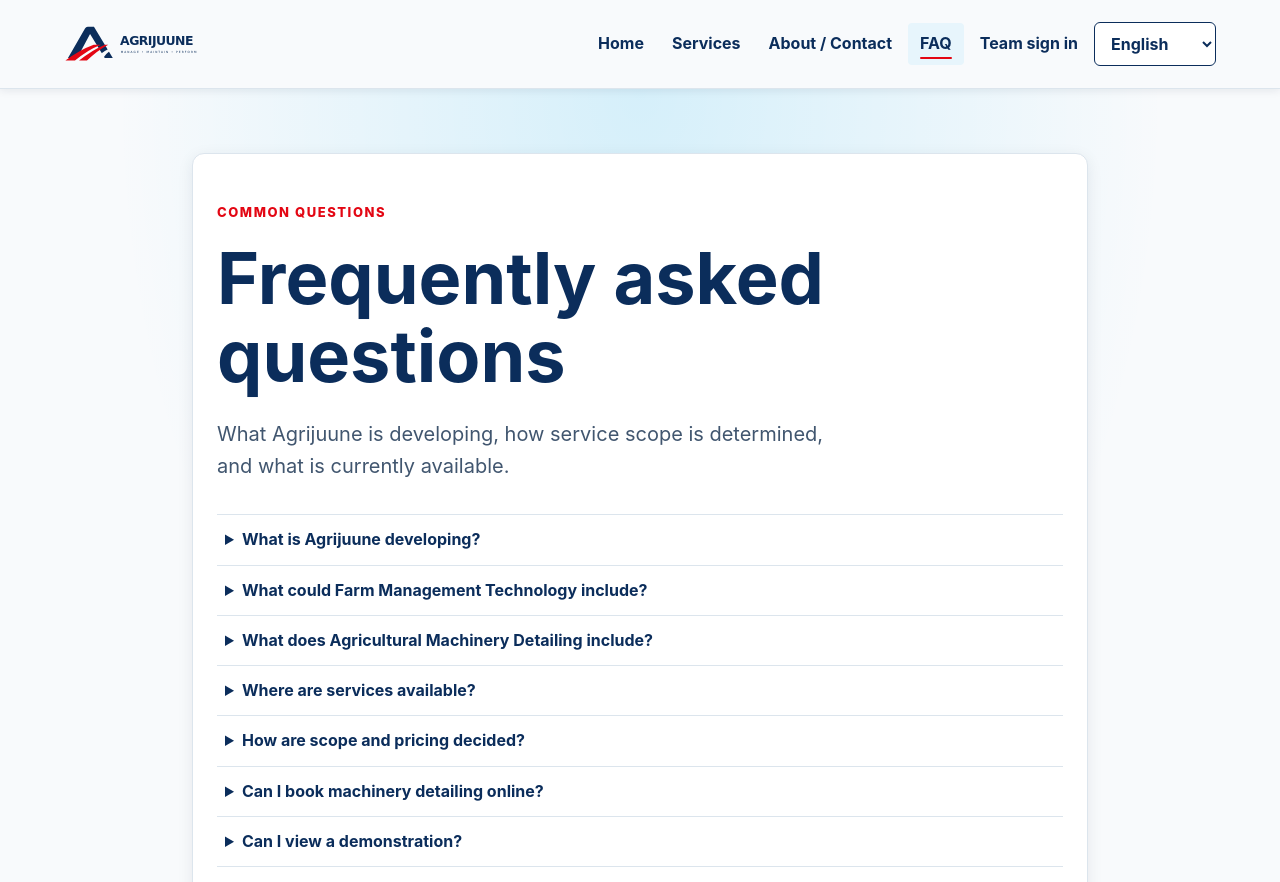
Test case: public application shell › localizes FAQ questions and answers into Afrikaans
Select "Afrikaans" in the dropdown named "Language": (1155, 44) [1094,22,1216,66]
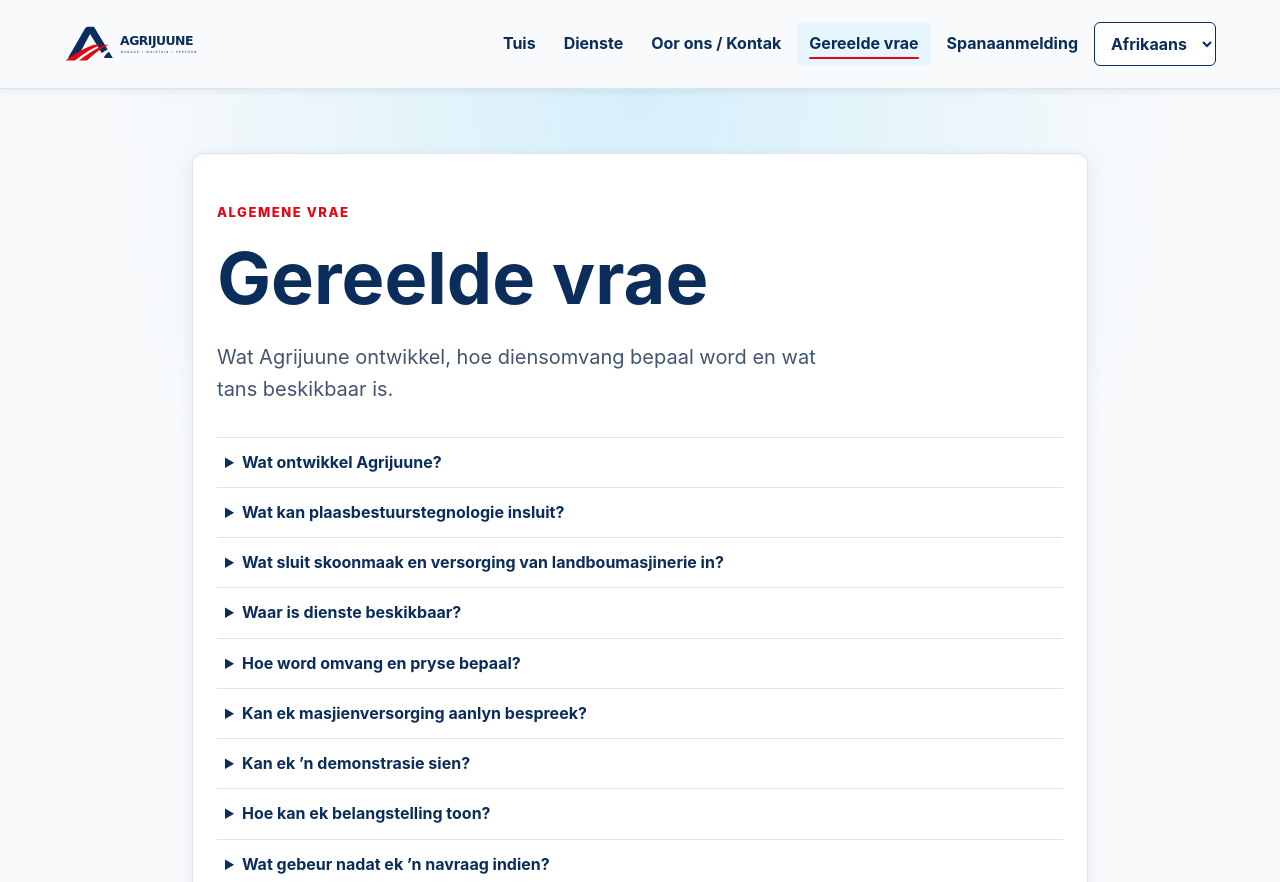
Result: the heading "Gereelde vrae" is shown at [217,234,708,321]
Result: the heading "Wat ontwikkel Agrijuune?" is shown at [242,452,442,472]
